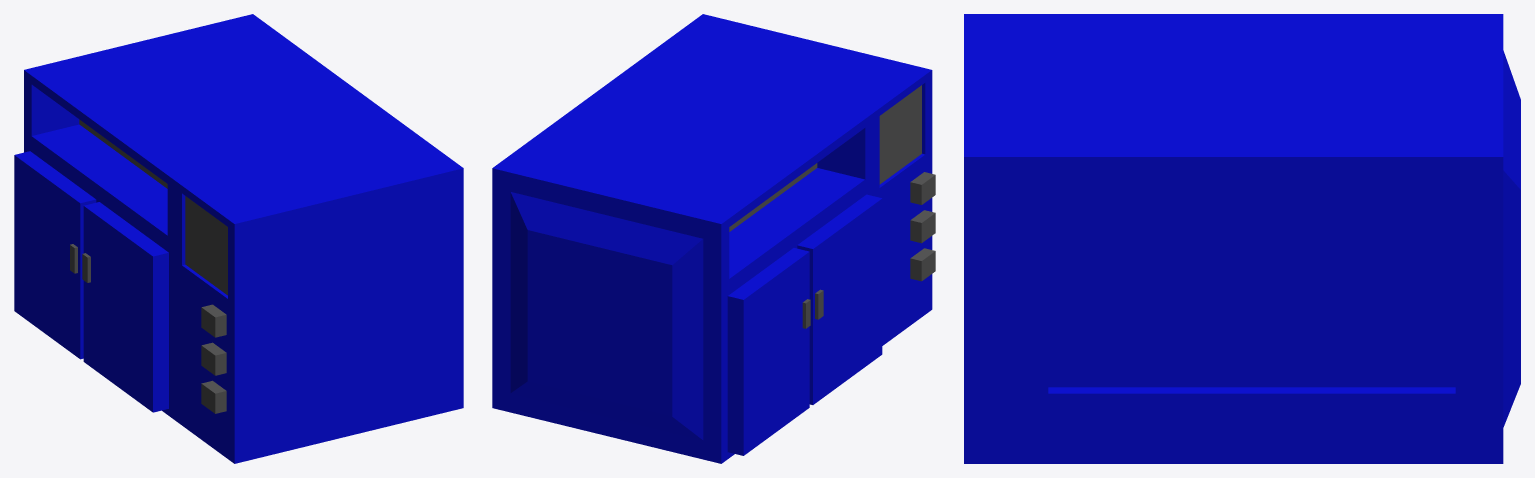
Rendered from waterprocessor.glb.
3 views of the same model, side by side, from view 1: azimuth 30°, elevation 25°; view 2: azimuth 150°, elevation 25°; view 3: azimuth 270°, elevation 25° (orthographic). The views are drawn at different scales.
Visible parts, largest first — view 1: Cube.076; view 2: Cube.076; view 3: Cube.076.
Part boxes in pixels (<box>): Cube.076: <box>14,14,463,463</box>; Cube.076: <box>492,14,935,463</box>; Cube.076: <box>964,14,1520,463</box>.
Size of the model in its own units: 2.17 by 2 by 3.29.
